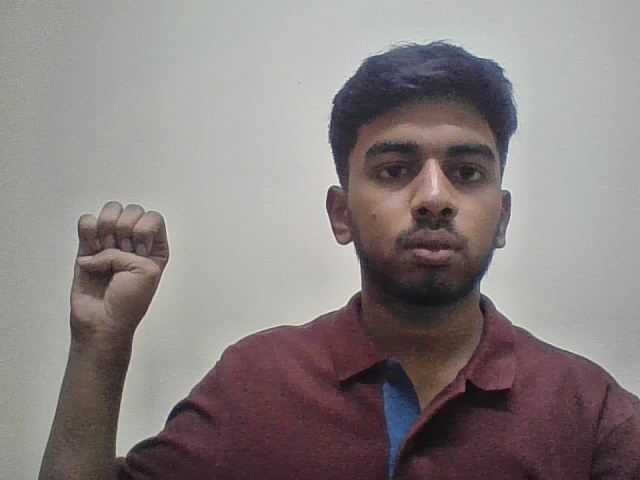E: (56, 186, 181, 359)
